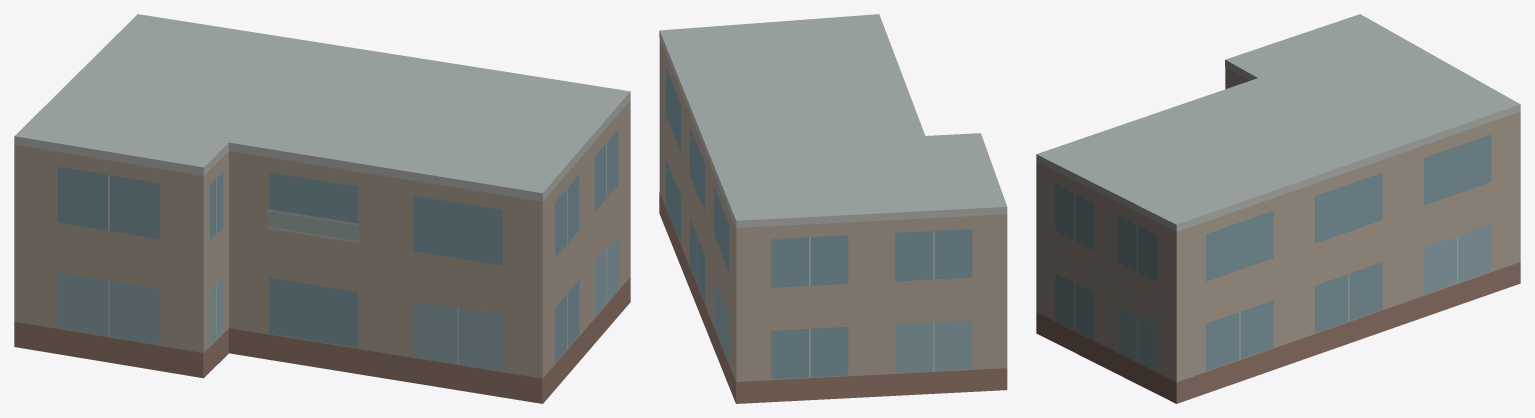
File: survey-upis-32729727.glb
3 renders of one model, left to right at view 1: azimuth 30°, elevation 25°; view 2: azimuth 150°, elevation 25°; view 3: azimuth 270°, elevation 25°, orthographic. The views are drawn at different scales.
Parts seen in each view (by area): view 1: survey-upis-32729727.tmp; view 2: survey-upis-32729727.tmp; view 3: survey-upis-32729727.tmp.
Boxes of the visible parts, left/top/right/bottom form: survey-upis-32729727.tmp: left=14, top=14, right=630, bottom=403; survey-upis-32729727.tmp: left=659, top=14, right=1007, bottom=403; survey-upis-32729727.tmp: left=1036, top=14, right=1520, bottom=403.
Size of the model in its own units: 15.41 by 6.1 by 14.96.
